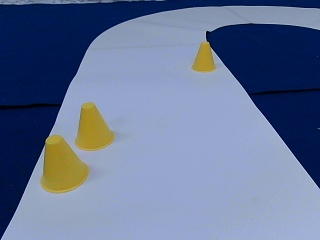cone: (41, 135, 89, 192), (75, 103, 115, 149), (192, 42, 215, 71)
